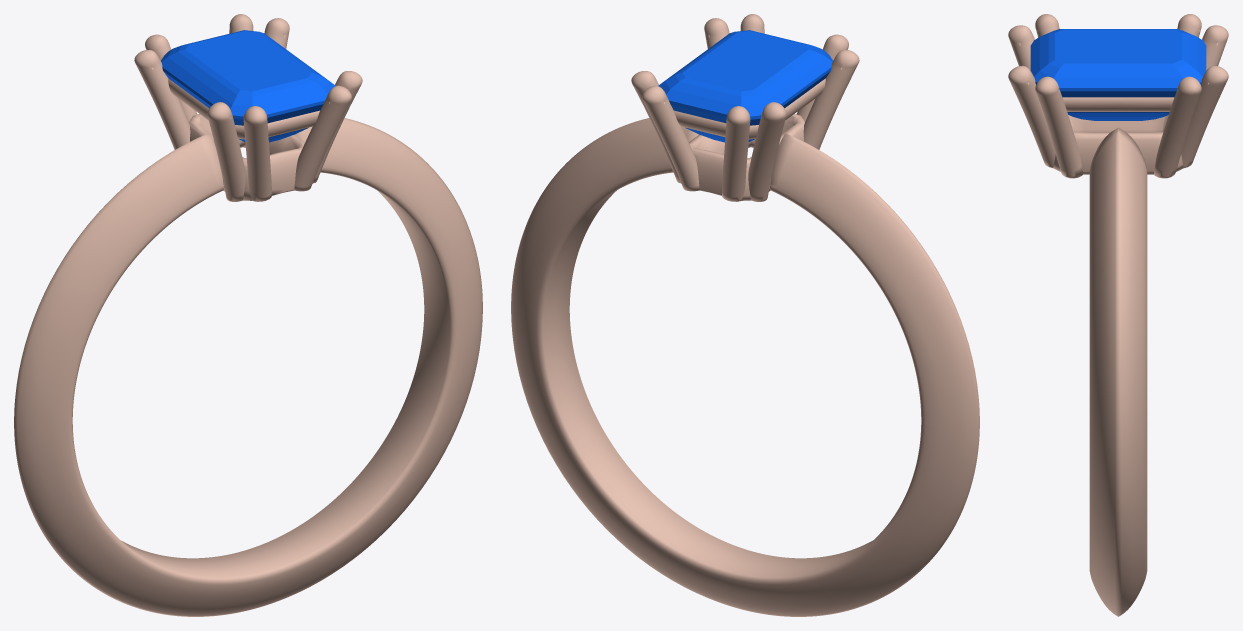
File: bluesapphire-emerald-rosegold-8prong-knifeedge-solitaire.glb
3 views of the same model, side by side, from view 1: azimuth 30°, elevation 25°; view 2: azimuth 150°, elevation 25°; view 3: azimuth 270°, elevation 25° (orthographic).
Visible parts, largest first — view 1: metal.003, stone; view 2: metal.003, stone; view 3: metal.003, stone.
Boxes of the visible parts, x1,y1,x2,y2 form: metal.003: (14,14,482,616); stone: (161,30,335,142); metal.003: (511,14,979,616); stone: (658,30,832,142); metal.003: (1008,14,1228,616); stone: (1030,29,1206,120).
Size of the model in its own units: 20.5 by 22.94 by 8.4.
